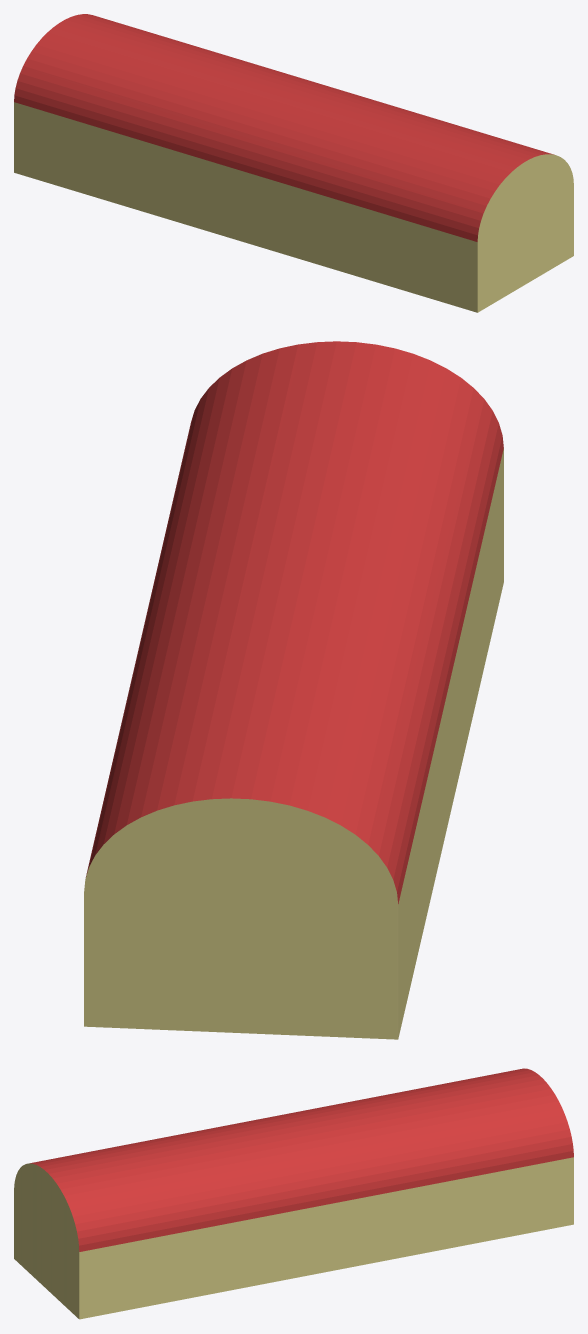
3 views of the same model, one above another, from view 1: azimuth 30°, elevation 25°; view 2: azimuth 150°, elevation 25°; view 3: azimuth 270°, elevation 25° (orthographic). The views are drawn at different scales.
Bounding box in the file's own units: 20.49 × 31.15 × 7.19.
